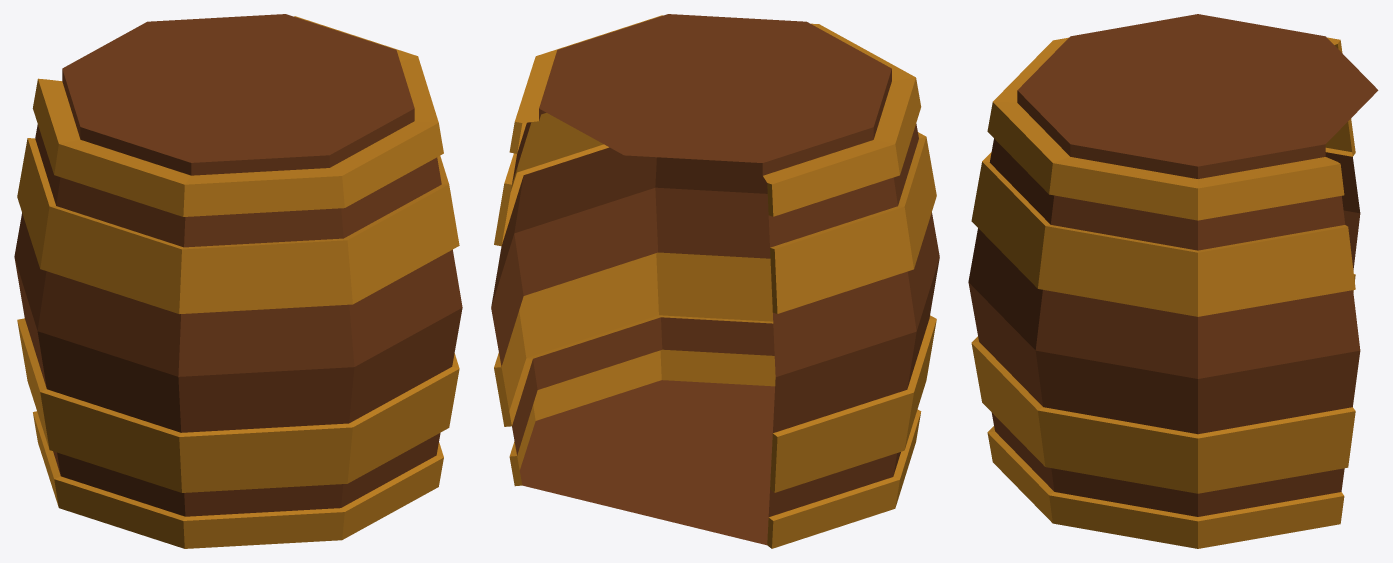
Rendered from Barrel.fbx.
3 views of the same model, side by side, from view 1: azimuth 30°, elevation 25°; view 2: azimuth 150°, elevation 25°; view 3: azimuth 270°, elevation 25° (orthographic).
Visible parts, largest first — view 1: Barrel; view 2: Barrel; view 3: Barrel.
Boxes of the visible parts, left/top/right/bottom form: Barrel: left=14, top=14, right=462, bottom=548; Barrel: left=491, top=14, right=939, bottom=548; Barrel: left=968, top=14, right=1378, bottom=548.
Size of the model in its own units: 232 by 208 by 208.
